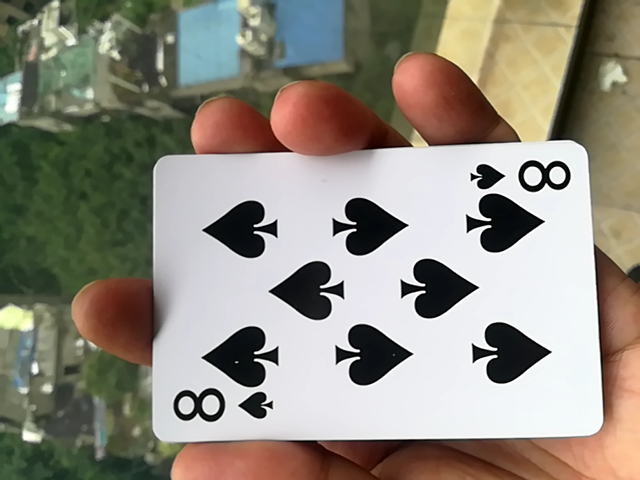ht 8: (130, 136, 585, 458)
